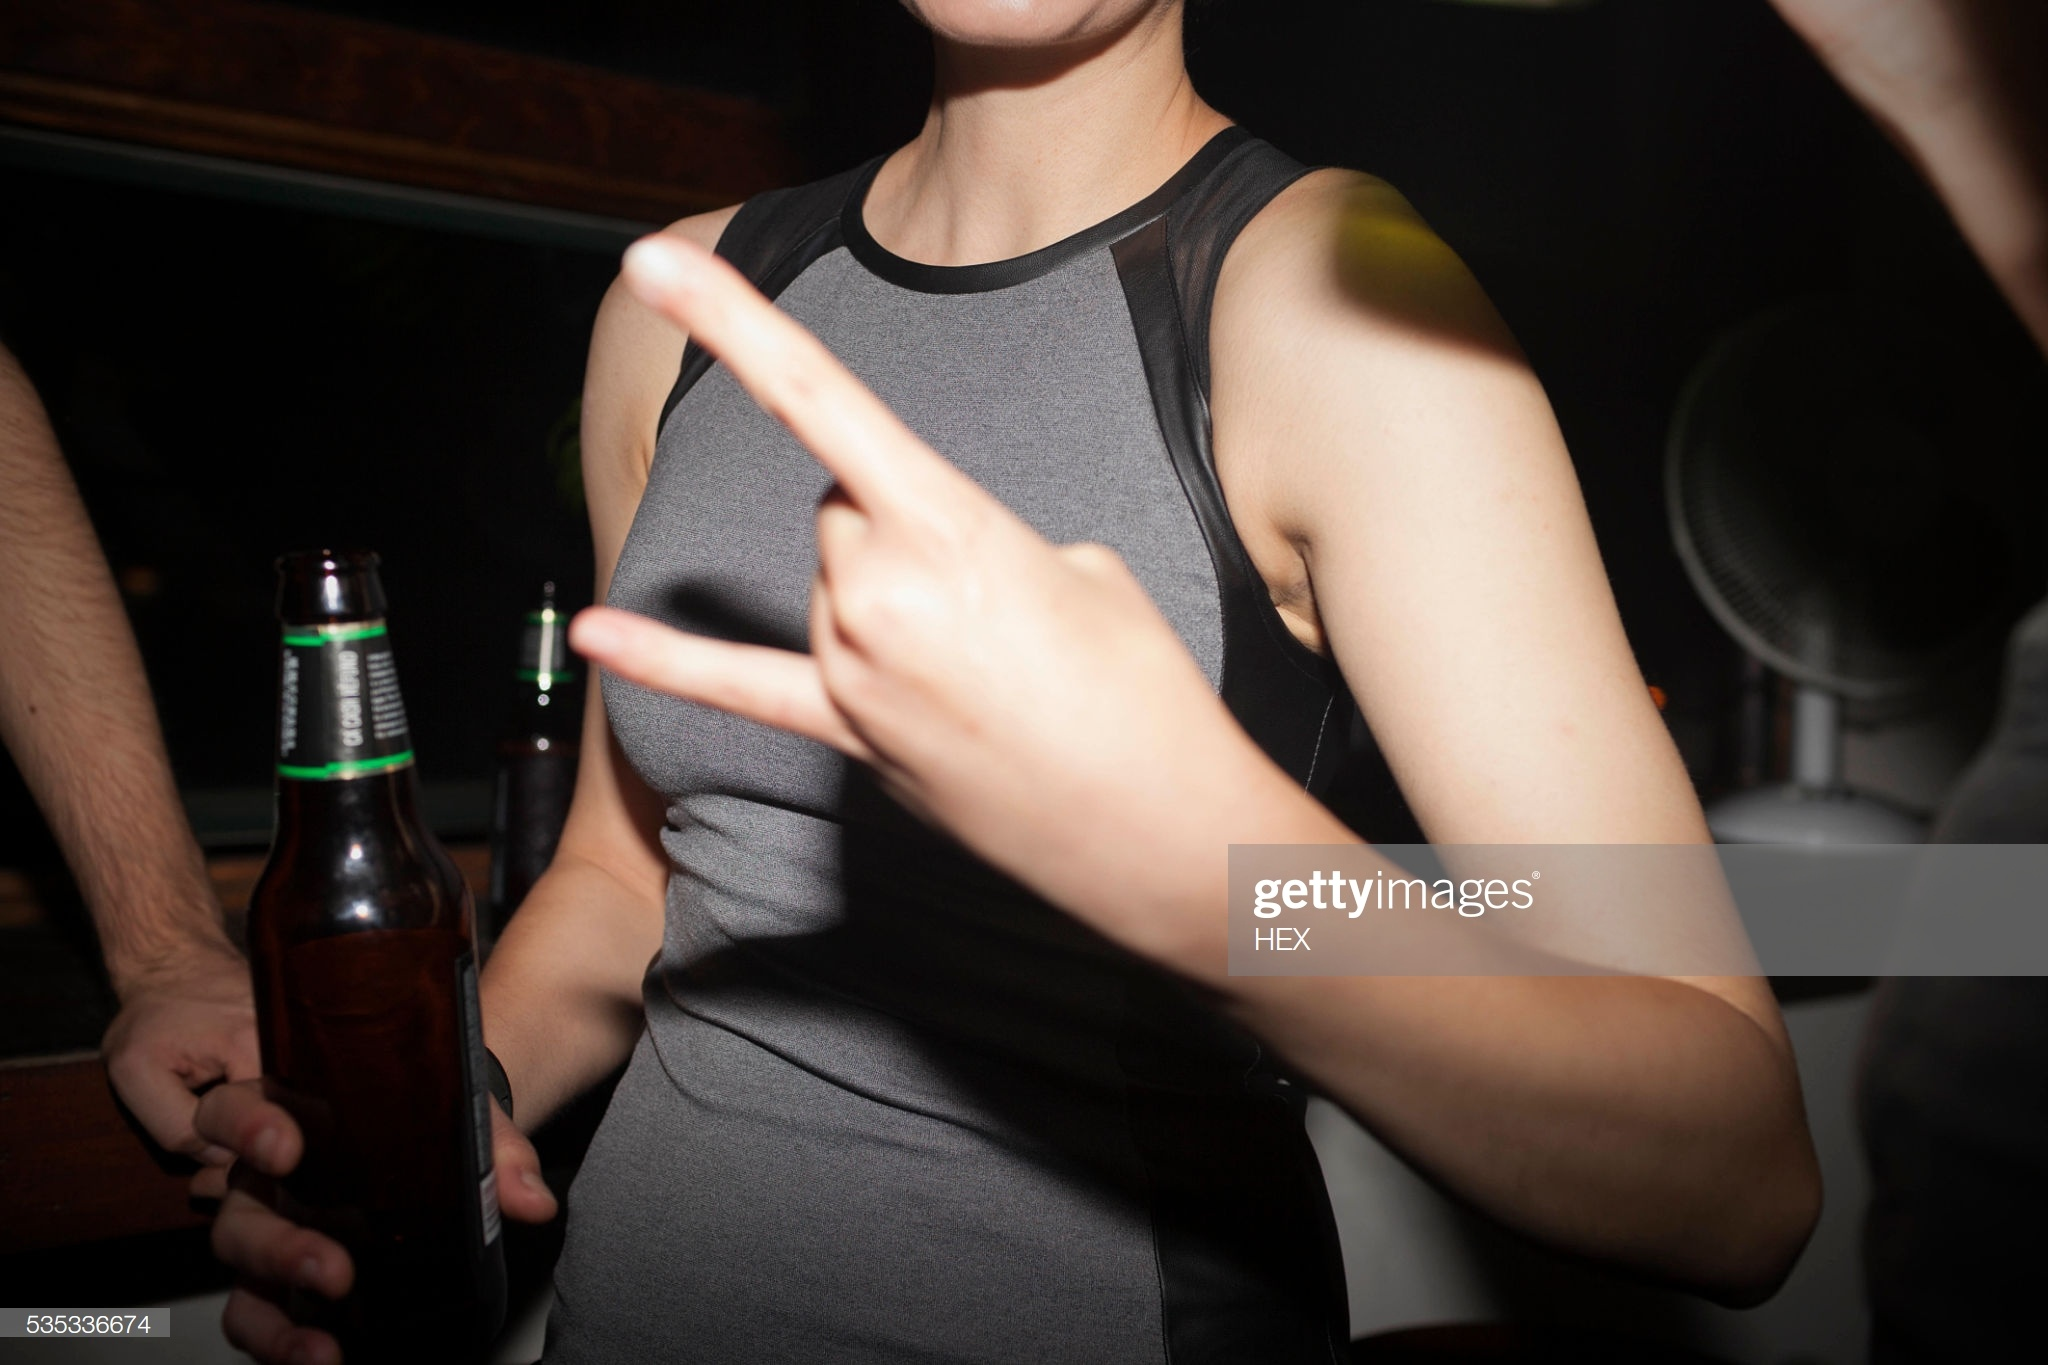beerBottle: (263, 515, 484, 1347)
